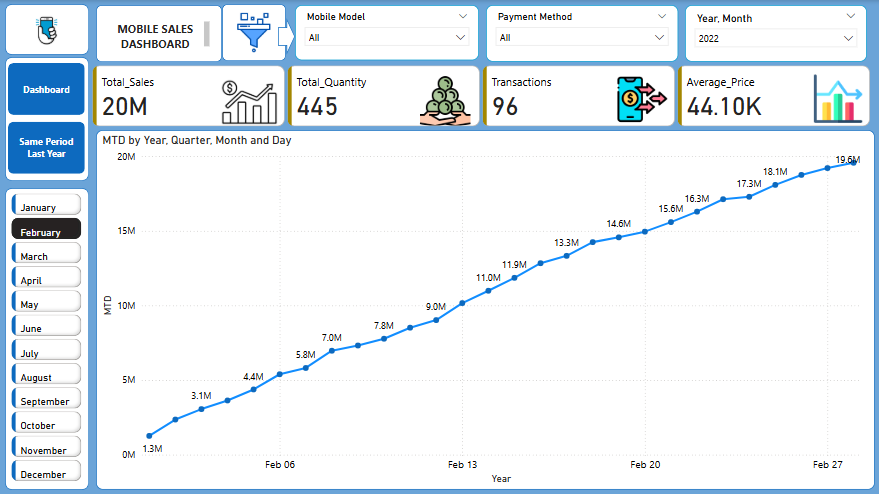

The dashboard page shown, as its layout file describes it:
{"tool":"powerbi","page":{"name":"MTD Report","canvas":[1280,720],"ordinal":1},"visuals":[{"type":"shape","box":[11.6,5.8,121.4,73.7],"z":0},{"type":"image","box":[31.8,13,79.5,62.2],"z":1000},{"type":"shape","box":[11.6,82.4,121.4,179.3],"z":2000},{"type":"shape","box":[11.6,271.8,121.4,436.6],"z":3000},{"type":"cardVisual","fields":{"Data":["Mobile Sales Data.Total_Sales","Mobile Sales Data.Total_Quantity","Mobile Sales Data.Transactions","Mobile Sales Data.Average_Price"]},"box":[133,89.6,1136.4,98.3],"z":4000},{"type":"slicer","fields":{"Values":["Mobile Sales Data.Mobile Model"]},"box":[430.8,7.2,266,79.5],"z":5000},{"type":"slicer","fields":{"Values":["Mobile Sales Data.Payment Method"]},"box":[707,7.2,277.6,82.4],"z":6000},{"type":"slicer","fields":{"Values":["Custom_Calender.Date.Variation.Date Hierarchy.Year","Custom_Calender.Date.Variation.Date Hierarchy.Month"]},"box":[994.7,7.2,263.1,82.4],"z":7000},{"type":"shape","box":[325.3,5.8,92.5,82.4],"z":8000},{"type":"image","box":[336.9,11.6,69.4,70.8],"z":9000},{"type":"shape","box":[406.3,26,24.6,53.5],"z":10000},{"type":"shape","box":[143.1,7.2,182.2,82.4],"z":11000},{"type":"textbox","box":[153.3,26,159,49.2],"z":12000},{"type":"lineChart","fields":{"Y":["Mobile Sales Data.MTD"],"Category":["Custom_Calender.Date.Variation.Date Hierarchy.Year","Custom_Calender.Date.Variation.Date Hierarchy.Quarter","Custom_Calender.Date.Variation.Date Hierarchy.Month","Custom_Calender.Date.Variation.Date Hierarchy.Day"]},"box":[143.1,188,1126.3,520.5],"z":13000},{"type":"advancedSlicerVisual","box":[15.9,274.7,111.3,436.6],"z":14000},{"type":"advancedSlicerVisual","fields":{"Values":["Custom_Calender.Date.Variation.Date Hierarchy.Month"]},"box":[15.9,274.7,111.3,436.6],"z":15000},{"type":"pageNavigator","box":[15.9,91.1,111.3,160.5],"z":16000}]}

Visuals, with their boxes in screenshot pixels (x1, y1, x2, y2), scaled from the page's 1280x720 canvas onto the 879x494 screenshot:
shape: box=[8, 4, 91, 55]
image: box=[22, 9, 76, 52]
shape: box=[8, 57, 91, 180]
shape: box=[8, 186, 91, 486]
cardVisual - Mobile Sales Data.Total_Sales x Mobile Sales Data.Total_Quantity: box=[91, 61, 872, 129]
slicer - Mobile Sales Data.Mobile Model: box=[296, 5, 479, 59]
slicer - Mobile Sales Data.Payment Method: box=[486, 5, 676, 61]
slicer - Custom_Calender.Date.Variation.Date Hierarchy.Year x Custom_Calender.Date.Variation.Date Hierarchy.Month: box=[683, 5, 864, 61]
shape: box=[223, 4, 287, 61]
image: box=[231, 8, 279, 57]
shape: box=[279, 18, 296, 55]
shape: box=[98, 5, 223, 61]
textbox: box=[105, 18, 214, 52]
lineChart - Mobile Sales Data.MTD x Custom_Calender.Date.Variation.Date Hierarchy.Year: box=[98, 129, 872, 486]
advancedSlicerVisual: box=[11, 188, 87, 488]
advancedSlicerVisual - Custom_Calender.Date.Variation.Date Hierarchy.Month: box=[11, 188, 87, 488]
pageNavigator: box=[11, 63, 87, 173]
